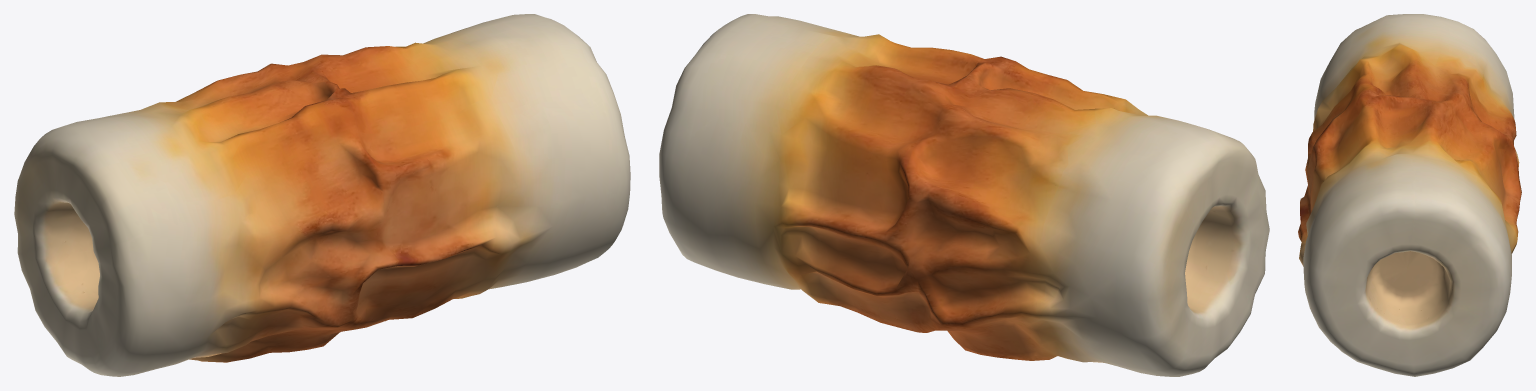
3 renders of one model, left to right at view 1: azimuth 30°, elevation 25°; view 2: azimuth 150°, elevation 25°; view 3: azimuth 270°, elevation 25°, orthographic. The views are drawn at different scales.
Parts seen in each view (by area): view 1: Fish Tofu Roll; view 2: Fish Tofu Roll; view 3: Fish Tofu Roll.
Part boxes in pixels (x1,y1,x2,y2): Fish Tofu Roll: (14, 14, 630, 376); Fish Tofu Roll: (659, 14, 1269, 376); Fish Tofu Roll: (1298, 14, 1521, 376).
Bounding box in the file's own units: 0.998 × 0.4824 × 0.4824.
1 material, 1 textured.
